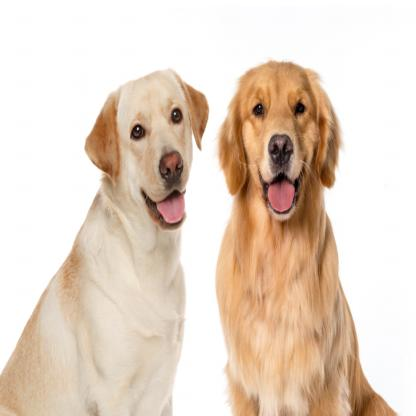dog: (0, 60, 208, 416), (219, 58, 400, 416)
